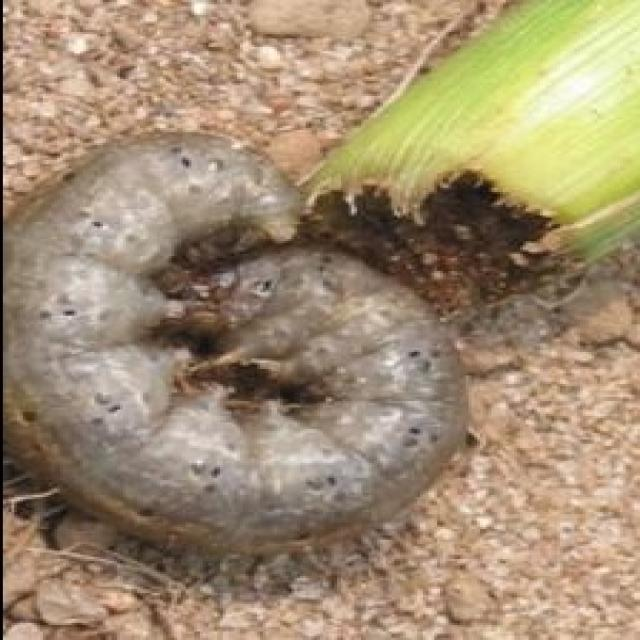black cutworm: (8, 131, 497, 554)
